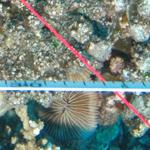alive: (2, 4, 147, 146)
